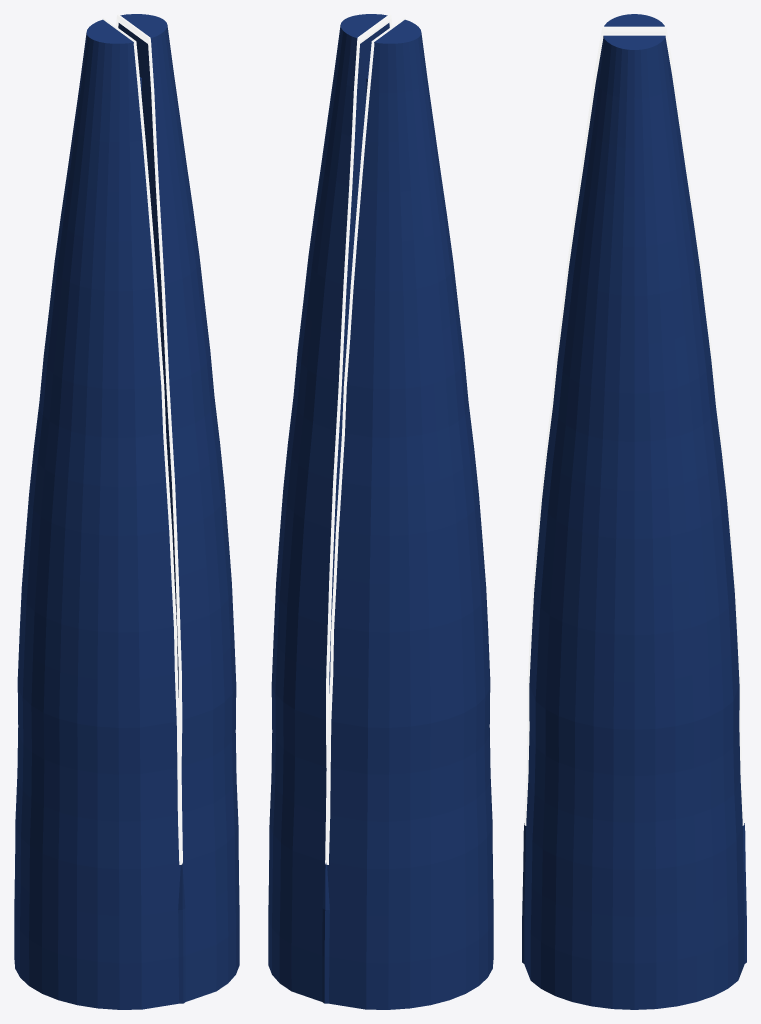
File: LotteTower.glb
3 views of the same model, side by side, from view 1: azimuth 30°, elevation 25°; view 2: azimuth 150°, elevation 25°; view 3: azimuth 270°, elevation 25° (orthographic).
Parts seen in each view (by area): view 1: Cylinder.001; view 2: Cylinder.001; view 3: Cylinder.001.
Part boxes in pixels (x1,y1,x2,y2): Cylinder.001: (14, 14, 239, 1009); Cylinder.001: (268, 14, 493, 1009); Cylinder.001: (522, 14, 746, 1009).
Size of the model in its own units: 1.23 by 5.63 by 1.23.
